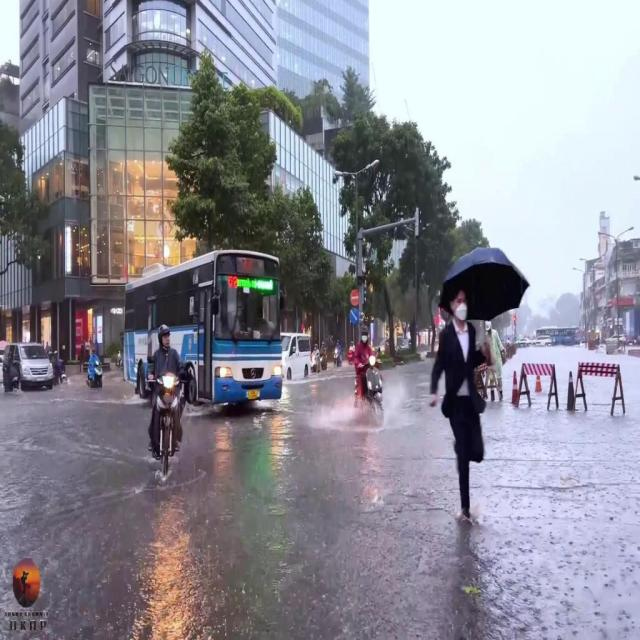cam_xe_di_nguoc_chieu: (349, 289, 359, 306)
huong_phai_di_vuot_chuong_ngai_vat_phai: (350, 308, 360, 326)
